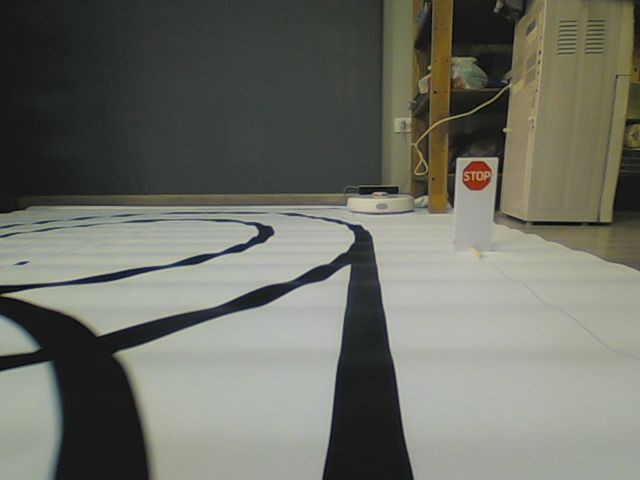Stop: (460, 161, 493, 191)
